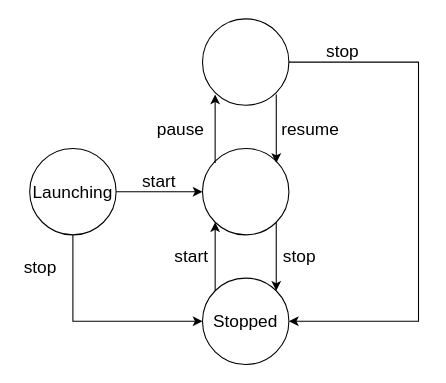
The diagram is 446 pixels wide and 383 high, and some of its shapes have lost their labels. Here are the shapes that lost their labels. From the top down, the centre of each, then its label:
(245,61): Paused
(245,191): Playing
